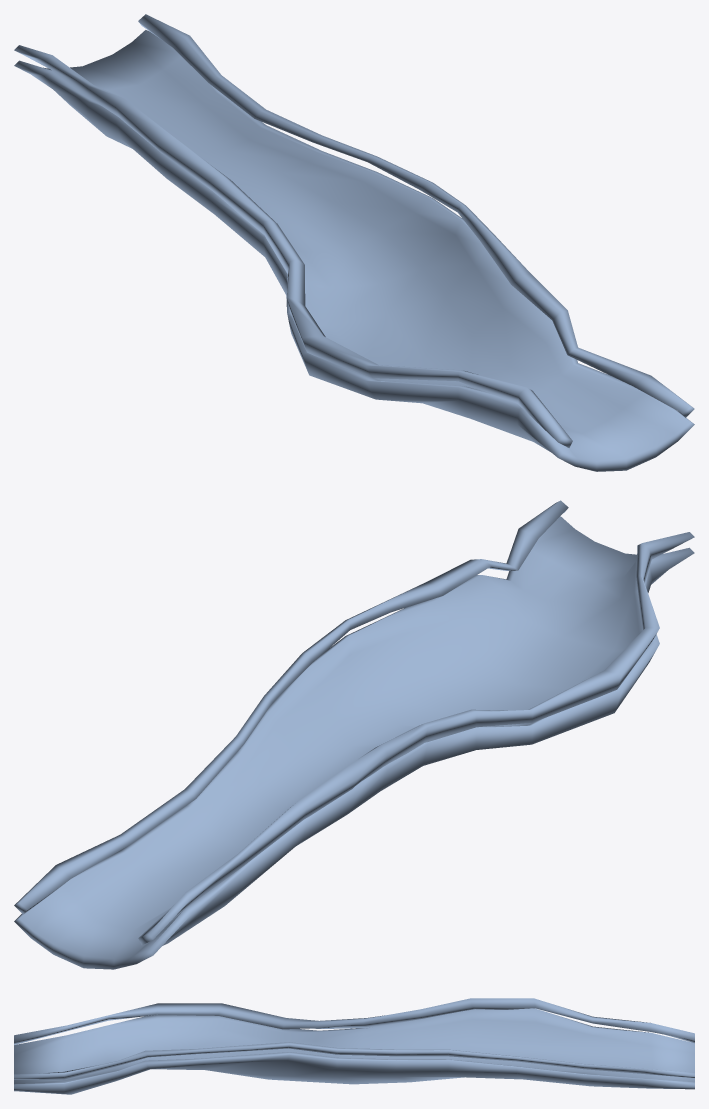
Rendered from junRoadLong5.fbx.
3 renders of one model, top to bottom at view 1: azimuth 30°, elevation 25°; view 2: azimuth 150°, elevation 25°; view 3: azimuth 270°, elevation 25°, orthographic. The views are drawn at different scales.
Visible parts, largest first — view 1: roadLong5_LOD0, roadLong5_edge_LOD0; view 2: roadLong5_LOD0, roadLong5_edge_LOD0; view 3: roadLong5_LOD0, roadLong5_edge_LOD0.
Boxes of the visible parts, x1,y1,x2,y2 form: roadLong5_LOD0: (14, 30, 694, 471); roadLong5_edge_LOD0: (14, 14, 694, 447); roadLong5_LOD0: (14, 516, 694, 969); roadLong5_edge_LOD0: (14, 500, 694, 945); roadLong5_LOD0: (14, 1008, 694, 1094); roadLong5_edge_LOD0: (14, 998, 694, 1079).
Bounding box in the file's own units: 1080 × 447 × 4390.
